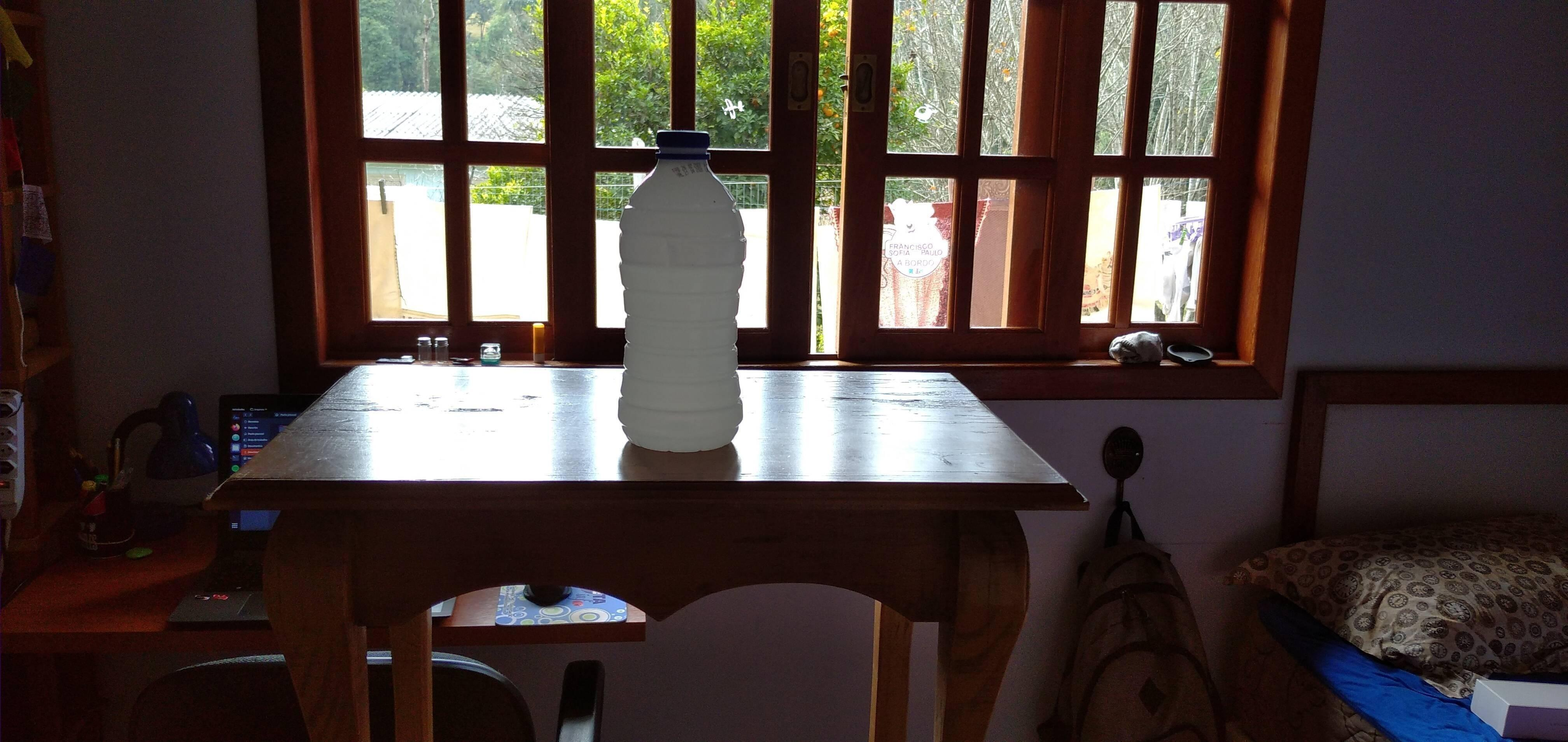bottle-plastic: (615, 126, 749, 456)
